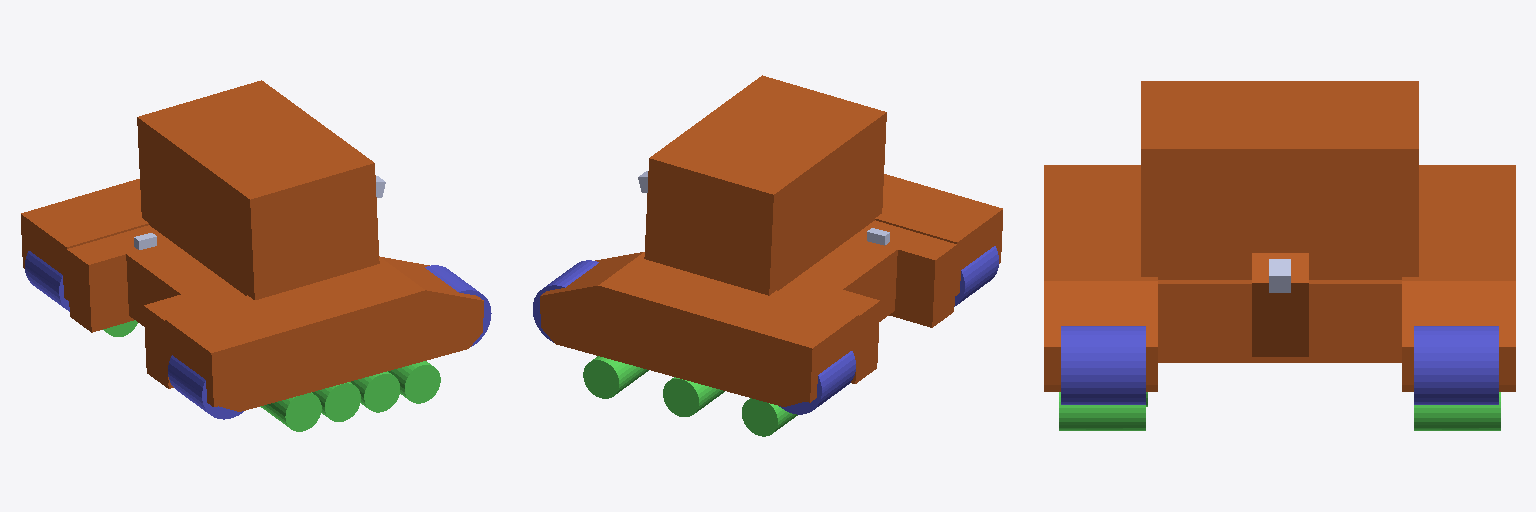
URDF robot description (master_bot):
<?xml version="1.0" encoding="utf-8"?>
<!-- This URDF was automatically created by SolidWorks to URDF Exporter! Originally created by [author] ([email redacted]) 
     Commit Version:   Build Version: 1.6.9481.7103
     For more information, please see http://wiki.ros.org/sw_urdf_exporter -->
<robot
  name="master_bot">
  <link
    name="base_link">
    <inertial>
      <origin
        xyz="0.00890886340632199 -2.12108746995987E-05 -0.249771762086449"
        rpy="0 0 0" />
      <mass
        value="102.457212071935" />
      <inertia
        ixx="5.96593791507147"
        ixy="-0.000168989927705924"
        ixz="-0.221596004916151"
        iyy="3.39204393062452"
        iyz="0.000300406798158458"
        izz="6.96204879141497" />
    </inertial>
    <visual>
      <origin
        xyz="0 0 0"
        rpy="0 0 0" />
      <geometry>
        <mesh
          filename="package://master_bot/meshes/base_link.STL" />
      </geometry>
      <material
        name="">
        <color
          rgba="0.76078431372549 0.4 0.180392156862745 0.3" />
      </material>
    </visual>
    <collision>
      <origin
        xyz="0 0 0"
        rpy="0 0 0" />
      <geometry>
        <mesh
          filename="package://master_bot/meshes/base_link.STL" />
      </geometry>
    </collision>
  </link>
  <link
    name="l_l1">
    <inertial>
      <origin
        xyz="4.996E-16 -0.0719 2.7756E-17"
        rpy="0 0 0" />
      <mass
        value="2.1385" />
      <inertia
        ixx="0.0062157"
        ixy="1.2139E-17"
        ixz="-2.0788E-18"
        iyy="0.0050614"
        iyz="2.0255E-18"
        izz="0.0062157" />
    </inertial>
    <visual>
      <origin
        xyz="0 0 0"
        rpy="0 0 0" />
      <geometry>
        <mesh
          filename="package://master_bot/meshes/l_l1.STL" />
      </geometry>
      <material
        name="">
        <color
          rgba="0.38824 0.4 0.85882 0.3" />
      </material>
    </visual>
    <collision>
      <origin
        xyz="0 0 0"
        rpy="0 0 0" />
      <geometry>
        <mesh
          filename="package://master_bot/meshes/l_l1.STL" />
      </geometry>
    </collision>
  </link>
  <joint
    name="j_l1"
    type="continuous">
    <origin
      xyz="0.31373 0.3723 -0.33393"
      rpy="0 0 0" />
    <parent
      link="base_link" />
    <child
      link="l_l1" />
    <axis
      xyz="0 1 0" />
  </joint>
  <link
    name="l_l2">
    <inertial>
      <origin
        xyz="-5.5511E-17 -0.0739 1.3878E-17"
        rpy="0 0 0" />
      <mass
        value="0.89909" />
      <inertia
        ixx="0.0020719"
        ixy="-4.7629E-19"
        ixz="8.3461E-21"
        iyy="0.00087046"
        iyz="2.4619E-19"
        izz="0.0020719" />
    </inertial>
    <visual>
      <origin
        xyz="0 0 0"
        rpy="0 0 0" />
      <geometry>
        <mesh
          filename="package://master_bot/meshes/l_l2.STL" />
      </geometry>
      <material
        name="">
        <color
          rgba="0.38824 0.85882 0.38824 0.3" />
      </material>
    </visual>
    <collision>
      <origin
        xyz="0 0 0"
        rpy="0 0 0" />
      <geometry>
        <mesh
          filename="package://master_bot/meshes/l_l2.STL" />
      </geometry>
    </collision>
  </link>
  <joint
    name="j_l2"
    type="continuous">
    <origin
      xyz="0.21333 0.3763 -0.45648"
      rpy="0 0 0" />
    <parent
      link="base_link" />
    <child
      link="l_l2" />
    <axis
      xyz="0 1 0" />
  </joint>
  <link
    name="l_l3">
    <inertial>
      <origin
        xyz="-2.7756E-17 -0.0739 2.7756E-17"
        rpy="0 0 0" />
      <mass
        value="0.89909" />
      <inertia
        ixx="0.0020719"
        ixy="-3.3003E-19"
        ixz="-8.3461E-21"
        iyy="0.00087046"
        iyz="2.5891E-19"
        izz="0.0020719" />
    </inertial>
    <visual>
      <origin
        xyz="0 0 0"
        rpy="0 0 0" />
      <geometry>
        <mesh
          filename="package://master_bot/meshes/l_l3.STL" />
      </geometry>
      <material
        name="">
        <color
          rgba="0.38824 0.85882 0.38824 0.3" />
      </material>
    </visual>
    <collision>
      <origin
        xyz="0 0 0"
        rpy="0 0 0" />
      <geometry>
        <mesh
          filename="package://master_bot/meshes/l_l3.STL" />
      </geometry>
    </collision>
  </link>
  <joint
    name="j_l3"
    type="continuous">
    <origin
      xyz="0.11783 0.3723 -0.45648"
      rpy="0 0 0" />
    <parent
      link="base_link" />
    <child
      link="l_l3" />
    <axis
      xyz="0 1 0" />
  </joint>
  <link
    name="l_l4">
    <inertial>
      <origin
        xyz="-1.38777878078145E-17 -0.0739000000000003 1.38777878078145E-17"
        rpy="0 0 0" />
      <mass
        value="0.899087226846545" />
      <inertia
        ixx="0.00207193192008918"
        ixy="-3.19702190316086E-19"
        ixz="8.34609797361173E-21"
        iyy="0.00087046107076059"
        iyz="2.69240255571735E-19"
        izz="0.00207193192008918" />
    </inertial>
    <visual>
      <origin
        xyz="0 0 0"
        rpy="0 0 0" />
      <geometry>
        <mesh
          filename="package://master_bot/meshes/l_l4.STL" />
      </geometry>
      <material
        name="">
        <color
          rgba="0.388235294117647 0.858823529411765 0.388235294117647 0.3" />
      </material>
    </visual>
    <collision>
      <origin
        xyz="0 0 0"
        rpy="0 0 0" />
      <geometry>
        <mesh
          filename="package://master_bot/meshes/l_l4.STL" />
      </geometry>
    </collision>
  </link>
  <joint
    name="j_l4"
    type="continuous">
    <origin
      xyz="0.022322 0.3723 -0.45648"
      rpy="0 0 0" />
    <parent
      link="base_link" />
    <child
      link="l_l4" />
    <axis
      xyz="0 1 0" />
  </joint>
  <link
    name="l_l5">
    <inertial>
      <origin
        xyz="-2.7756E-17 -0.0739 1.3878E-17"
        rpy="0 0 0" />
      <mass
        value="0.89909" />
      <inertia
        ixx="0.0020719"
        ixy="-3.3003E-19"
        ixz="-8.3461E-21"
        iyy="0.00087046"
        iyz="2.9229E-19"
        izz="0.0020719" />
    </inertial>
    <visual>
      <origin
        xyz="0 0 0"
        rpy="0 0 0" />
      <geometry>
        <mesh
          filename="package://master_bot/meshes/l_l5.STL" />
      </geometry>
      <material
        name="">
        <color
          rgba="0.38824 0.85882 0.38824 0.3" />
      </material>
    </visual>
    <collision>
      <origin
        xyz="0 0 0"
        rpy="0 0 0" />
      <geometry>
        <mesh
          filename="package://master_bot/meshes/l_l5.STL" />
      </geometry>
    </collision>
  </link>
  <joint
    name="j_l5"
    type="continuous">
    <origin
      xyz="-0.073182 0.3723 -0.45648"
      rpy="0 0 0" />
    <parent
      link="base_link" />
    <child
      link="l_l5" />
    <axis
      xyz="0 1 0" />
  </joint>
  <link
    name="l_l6">
    <inertial>
      <origin
        xyz="0 -0.0739 1.3878E-17"
        rpy="0 0 0" />
      <mass
        value="0.89909" />
      <inertia
        ixx="0.0020719"
        ixy="-5.6218E-20"
        ixz="7.5115E-20"
        iyy="0.00087046"
        iyz="2.3824E-19"
        izz="0.0020719" />
    </inertial>
    <visual>
      <origin
        xyz="0 0 0"
        rpy="0 0 0" />
      <geometry>
        <mesh
          filename="package://master_bot/meshes/l_l6.STL" />
      </geometry>
      <material
        name="">
        <color
          rgba="0.38824 0.85882 0.38824 0.3" />
      </material>
    </visual>
    <collision>
      <origin
        xyz="0 0 0"
        rpy="0 0 0" />
      <geometry>
        <mesh
          filename="package://master_bot/meshes/l_l6.STL" />
      </geometry>
    </collision>
  </link>
  <joint
    name="j_l6"
    type="continuous">
    <origin
      xyz="-0.16868 0.3723 -0.45648"
      rpy="0 0 0" />
    <parent
      link="base_link" />
    <child
      link="l_l6" />
    <axis
      xyz="0 1 0" />
  </joint>
  <link
    name="l_l7">
    <inertial>
      <origin
        xyz="4.4409E-16 -0.0719 3.8164E-17"
        rpy="0 0 0" />
      <mass
        value="2.1385" />
      <inertia
        ixx="0.0062157"
        ixy="1.2165E-17"
        ixz="-2.0788E-18"
        iyy="0.0050614"
        iyz="2.0255E-18"
        izz="0.0062157" />
    </inertial>
    <visual>
      <origin
        xyz="0 0 0"
        rpy="0 0 0" />
      <geometry>
        <mesh
          filename="package://master_bot/meshes/l_l7.STL" />
      </geometry>
      <material
        name="">
        <color
          rgba="0.38824 0.4 0.85882 0.3" />
      </material>
    </visual>
    <collision>
      <origin
        xyz="0 0 0"
        rpy="0 0 0" />
      <geometry>
        <mesh
          filename="package://master_bot/meshes/l_l7.STL" />
      </geometry>
    </collision>
  </link>
  <joint
    name="j_l7"
    type="continuous">
    <origin
      xyz="-0.25069 0.3723 -0.36114"
      rpy="0 0 0" />
    <parent
      link="base_link" />
    <child
      link="l_l7" />
    <axis
      xyz="0 1 0" />
  </joint>
  <link
    name="l_r1">
    <inertial>
      <origin
        xyz="5.5511E-16 0.0719 -2.7756E-17"
        rpy="0 0 0" />
      <mass
        value="2.1385" />
      <inertia
        ixx="0.0062157"
        ixy="-4.048E-18"
        ixz="-1.0394E-18"
        iyy="0.0050614"
        iyz="1.7325E-18"
        izz="0.0062157" />
    </inertial>
    <visual>
      <origin
        xyz="0 0 0"
        rpy="0 0 0" />
      <geometry>
        <mesh
          filename="package://master_bot/meshes/l_r1.STL" />
      </geometry>
      <material
        name="">
        <color
          rgba="0.38824 0.4 0.85882 0.3" />
      </material>
    </visual>
    <collision>
      <origin
        xyz="0 0 0"
        rpy="0 0 0" />
      <geometry>
        <mesh
          filename="package://master_bot/meshes/l_r1.STL" />
      </geometry>
    </collision>
  </link>
  <joint
    name="j_r1"
    type="continuous">
    <origin
      xyz="0.31373 -0.3723 -0.33393"
      rpy="0 0 0" />
    <parent
      link="base_link" />
    <child
      link="l_r1" />
    <axis
      xyz="0 1 0" />
  </joint>
  <link
    name="l_r2">
    <inertial>
      <origin
        xyz="0 0.0739000000000003 -1.38777878078145E-17"
        rpy="0 0 0" />
      <mass
        value="0.899087226846545" />
      <inertia
        ixx="0.00207193192008918"
        ixy="-4.30522915276281E-19"
        ixz="7.51148817625116E-20"
        iyy="0.00087046107076059"
        iyz="2.89688856794641E-19"
        izz="0.00207193192008918" />
    </inertial>
    <visual>
      <origin
        xyz="0 0 0"
        rpy="0 0 0" />
      <geometry>
        <mesh
          filename="package://master_bot/meshes/l_r2.STL" />
      </geometry>
      <material
        name="">
        <color
          rgba="0.388235294117647 0.858823529411765 0.388235294117647 0.3" />
      </material>
    </visual>
    <collision>
      <origin
        xyz="0 0 0"
        rpy="0 0 0" />
      <geometry>
        <mesh
          filename="package://master_bot/meshes/l_r2.STL" />
      </geometry>
    </collision>
  </link>
  <joint
    name="j_r2"
    type="continuous">
    <origin
      xyz="0.21333 -0.3763 -0.45648"
      rpy="0 0 0" />
    <parent
      link="base_link" />
    <child
      link="l_r2" />
    <axis
      xyz="0 1 0" />
  </joint>
  <link
    name="l_r3">
    <inertial>
      <origin
        xyz="0 0.0739 -1.3878E-17"
        rpy="0 0 0" />
      <mass
        value="0.89909" />
      <inertia
        ixx="0.0020719"
        ixy="-2.8427E-19"
        ixz="-8.3461E-21"
        iyy="0.00087046"
        iyz="3.3579E-19"
        izz="0.0020719" />
    </inertial>
    <visual>
      <origin
        xyz="0 0 0"
        rpy="0 0 0" />
      <geometry>
        <mesh
          filename="package://master_bot/meshes/l_r3.STL" />
      </geometry>
      <material
        name="">
        <color
          rgba="0.38824 0.85882 0.38824 0.3" />
      </material>
    </visual>
    <collision>
      <origin
        xyz="0 0 0"
        rpy="0 0 0" />
      <geometry>
        <mesh
          filename="package://master_bot/meshes/l_r3.STL" />
      </geometry>
    </collision>
  </link>
  <joint
    name="j_r3"
    type="continuous">
    <origin
      xyz="0.11783 -0.3723 -0.45648"
      rpy="0 0 0" />
    <parent
      link="base_link" />
    <child
      link="l_r3" />
    <axis
      xyz="0 1 0" />
  </joint>
  <link
    name="l_r4">
    <inertial>
      <origin
        xyz="2.0817E-17 0.0739 -1.3878E-17"
        rpy="0 0 0" />
      <mass
        value="0.89909" />
      <inertia
        ixx="0.0020719"
        ixy="-3.0732E-19"
        ixz="7.5115E-20"
        iyy="0.00087046"
        iyz="3.1274E-19"
        izz="0.0020719" />
    </inertial>
    <visual>
      <origin
        xyz="0 0 0"
        rpy="0 0 0" />
      <geometry>
        <mesh
          filename="package://master_bot/meshes/l_r4.STL" />
      </geometry>
      <material
        name="">
        <color
          rgba="0.38824 0.85882 0.38824 0.3" />
      </material>
    </visual>
    <collision>
      <origin
        xyz="0 0 0"
        rpy="0 0 0" />
      <geometry>
        <mesh
          filename="package://master_bot/meshes/l_r4.STL" />
      </geometry>
    </collision>
  </link>
  <joint
    name="j_r4"
    type="continuous">
    <origin
      xyz="0.022322 -0.3723 -0.45648"
      rpy="0 0 0" />
    <parent
      link="base_link" />
    <child
      link="l_r4" />
    <axis
      xyz="0 1 0" />
  </joint>
  <link
    name="l_r5">
    <inertial>
      <origin
        xyz="0 0.0739000000000002 -1.38777878078145E-17"
        rpy="0 0 0" />
      <mass
        value="0.899087226846545" />
      <inertia
        ixx="0.00207193192008918"
        ixy="-2.9024408336068E-19"
        ixz="-8.34609797361175E-21"
        iyy="0.00087046107076059"
        iyz="3.35792634578967E-19"
        izz="0.00207193192008918" />
    </inertial>
    <visual>
      <origin
        xyz="0 0 0"
        rpy="0 0 0" />
      <geometry>
        <mesh
          filename="package://master_bot/meshes/l_r5.STL" />
      </geometry>
      <material
        name="">
        <color
          rgba="0.388235294117647 0.858823529411765 0.388235294117647 0.3" />
      </material>
    </visual>
    <collision>
      <origin
        xyz="0 0 0"
        rpy="0 0 0" />
      <geometry>
        <mesh
          filename="package://master_bot/meshes/l_r5.STL" />
      </geometry>
    </collision>
  </link>
  <joint
    name="j_r5"
    type="continuous">
    <origin
      xyz="-0.073182 -0.3723 -0.45648"
      rpy="0 0 0" />
    <parent
      link="base_link" />
    <child
      link="l_r5" />
    <axis
      xyz="0 1 0" />
  </joint>
  <link
    name="l_r6">
    <inertial>
      <origin
        xyz="0 0.0739 -1.3878E-17"
        rpy="0 0 0" />
      <mass
        value="0.89909" />
      <inertia
        ixx="0.0020719"
        ixy="-7.124E-20"
        ixz="1.085E-19"
        iyy="0.00087046"
        iyz="3.1513E-19"
        izz="0.0020719" />
    </inertial>
    <visual>
      <origin
        xyz="0 0 0"
        rpy="0 0 0" />
      <geometry>
        <mesh
          filename="package://master_bot/meshes/l_r6.STL" />
      </geometry>
      <material
        name="">
        <color
          rgba="0.38824 0.85882 0.38824 0.3" />
      </material>
    </visual>
    <collision>
      <origin
        xyz="0 0 0"
        rpy="0 0 0" />
      <geometry>
        <mesh
          filename="package://master_bot/meshes/l_r6.STL" />
      </geometry>
    </collision>
  </link>
  <joint
    name="j_r6"
    type="continuous">
    <origin
      xyz="-0.16868 -0.3723 -0.45648"
      rpy="0 0 0" />
    <parent
      link="base_link" />
    <child
      link="l_r6" />
    <axis
      xyz="0 1 0" />
  </joint>
  <link
    name="l_r7">
    <inertial>
      <origin
        xyz="4.996E-16 0.0719 -1.7347E-17"
        rpy="0 0 0" />
      <mass
        value="2.1385" />
      <inertia
        ixx="0.0062157"
        ixy="-4.048E-18"
        ixz="-1.0394E-18"
        iyy="0.0050614"
        iyz="1.4727E-18"
        izz="0.0062157" />
    </inertial>
    <visual>
      <origin
        xyz="0 0 0"
        rpy="0 0 0" />
      <geometry>
        <mesh
          filename="package://master_bot/meshes/l_r7.STL" />
      </geometry>
      <material
        name="">
        <color
          rgba="0.38824 0.4 0.85882 0.3" />
      </material>
    </visual>
    <collision>
      <origin
        xyz="0 0 0"
        rpy="0 0 0" />
      <geometry>
        <mesh
          filename="package://master_bot/meshes/l_r7.STL" />
      </geometry>
    </collision>
  </link>
  <joint
    name="j_r7"
    type="continuous">
    <origin
      xyz="-0.25069 -0.3723 -0.36114"
      rpy="0 0 0" />
    <parent
      link="base_link" />
    <child
      link="l_r7" />
    <axis
      xyz="0 1 0" />
  </joint>
  <link
    name="l_FL2">
    <inertial>
      <origin
        xyz="8.2345E-05 9.7401E-16 -0.56913"
        rpy="0 0 0" />
      <mass
        value="0.058407" />
      <inertia
        ixx="1.5913E-05"
        ixy="-9.1307E-21"
        ixz="-8.7184E-07"
        iyy="1.6147E-05"
        iyz="4.2082E-21"
        izz="1.2893E-05" />
    </inertial>
    <visual>
      <origin
        xyz="0 0 0"
        rpy="0 0 0" />
      <geometry>
        <mesh
          filename="package://master_bot/meshes/l_FL2.STL" />
      </geometry>
      <material
        name="">
        <color
          rgba="0.79216 0.81961 0.93333 1" />
      </material>
    </visual>
    <collision>
      <origin
        xyz="0 0 0"
        rpy="0 0 0" />
      <geometry>
        <mesh
          filename="package://master_bot/meshes/l_FL2.STL" />
      </geometry>
    </collision>
  </link>
  <joint
    name="j_FL2"
    type="fixed">
    <origin
      xyz="-0.26408 0 -0.17156"
      rpy="0 -1.5708 0" />
    <parent
      link="base_link" />
    <child
      link="l_FL2" />
    <axis
      xyz="0 0 0" />
  </joint>
  <link
    name="l_BL2">
    <inertial>
      <origin
        xyz="0.14157 -9.3649E-16 -0.55049"
        rpy="0 0 0" />
      <mass
        value="0.022313" />
      <inertia
        ixx="4.5006E-06"
        ixy="3.3646E-24"
        ixz="7.1047E-07"
        iyy="4.65E-06"
        iyz="2.2296E-22"
        izz="2.0395E-06" />
    </inertial>
    <visual>
      <origin
        xyz="0 0 0"
        rpy="0 0 0" />
      <geometry>
        <mesh
          filename="package://master_bot/meshes/l_BL2.STL" />
      </geometry>
      <material
        name="">
        <color
          rgba="0.79216 0.81961 0.93333 1" />
      </material>
    </visual>
    <collision>
      <origin
        xyz="0 0 0"
        rpy="0 0 0" />
      <geometry>
        <mesh
          filename="package://master_bot/meshes/l_BL2.STL" />
      </geometry>
    </collision>
  </link>
  <joint
    name="j_BL2"
    type="fixed">
    <origin
      xyz="0.32674 0 -0.17729"
      rpy="-3.1416 1.309 -3.1416" />
    <parent
      link="base_link" />
    <child
      link="l_BL2" />
    <axis
      xyz="0 0 0" />
  </joint>
</robot>

--- What the picture shows (computed from the rendered views, not written in the file) ---
Views: 3 orthographic renders of the robot side by side, from view 1: azimuth 30°, elevation 25°; view 2: azimuth 150°, elevation 25°; view 3: azimuth 270°, elevation 25°.
Robot: master_bot — 17 links, 16 joints (14 continuous, 2 fixed); root link base_link; default pose: every joint at zero.
Links seen in each view (by area): view 1: base_link, l_r7, l_r5, l_r2, l_r3, l_r4, l_l7, l_r1; view 2: base_link, l_l2, l_l4, l_l7, l_l6, l_r7, l_l1; view 3: base_link, l_l1, l_r1, l_l2, l_r2, l_FL2.
Link boxes in pixels (x1,y1,x2,y2): base_link: (21,80,483,411); l_r7: (168,355,243,419); l_r5: (260,392,321,431); l_r2: (388,361,440,403); l_r3: (351,371,399,412); l_r4: (312,382,360,421); l_l7: (25,251,69,311); l_r1: (425,265,491,346); base_link: (540,75,1002,406); l_l2: (583,356,648,398); l_l4: (663,377,724,416); l_l7: (779,351,855,414); l_l6: (742,398,797,436); l_r7: (954,246,998,306); l_l1: (533,260,598,342); base_link: (1044,81,1515,391); l_l1: (1414,326,1498,404); l_r1: (1061,326,1145,404); l_l2: (1414,392,1500,430); l_r2: (1059,392,1145,430); l_FL2: (1269,259,1290,292).
Bounding box of the posed robot: 0.702 × 0.802 × 0.5089 m (x, y, z).
14 mesh visuals loaded from 17 distinct referenced files (14 binary STL); not drawn: 3 (reference not matched to a file when rendering).